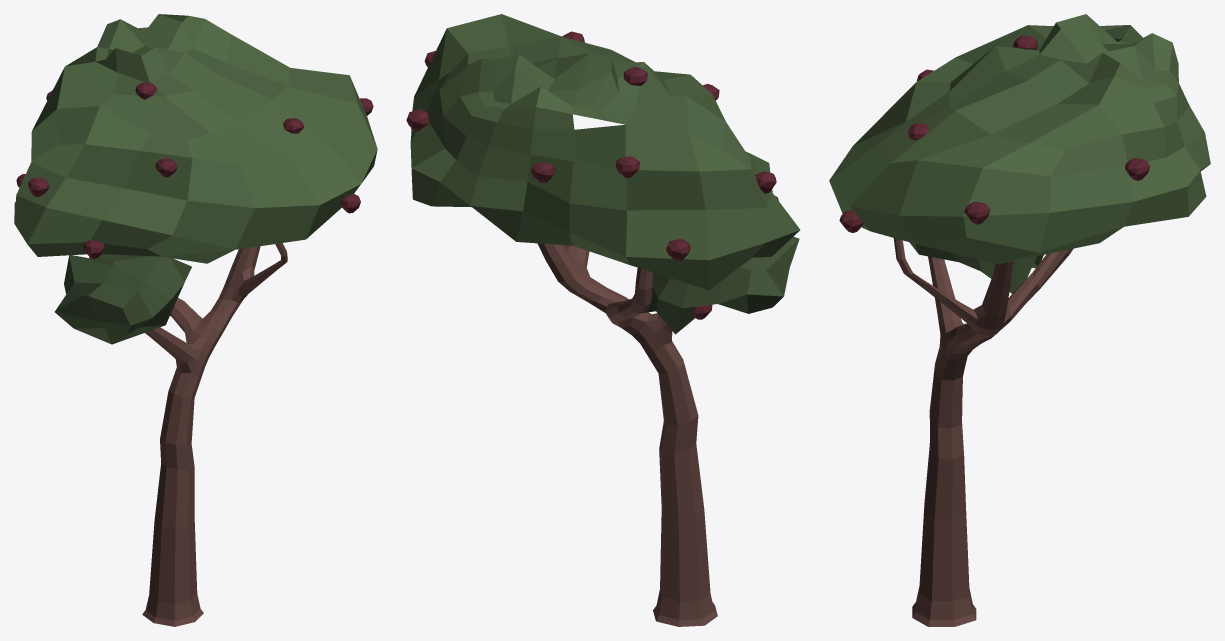
Rendered from Apple_Tree.glb.
3 renders of one model, left to right at view 1: azimuth 30°, elevation 25°; view 2: azimuth 150°, elevation 25°; view 3: azimuth 270°, elevation 25°, orthographic. The views are drawn at different scales.
Parts seen in each view (by area): view 1: Apple_4; view 2: Apple_4; view 3: Apple_4.
Part boxes in pixels (x1,y1,x2,y2): Apple_4: (14, 14, 377, 626); Apple_4: (406, 14, 800, 626); Apple_4: (829, 14, 1210, 626).
Bounding box in the file's own units: 1.86 × 2.76 × 1.58.
